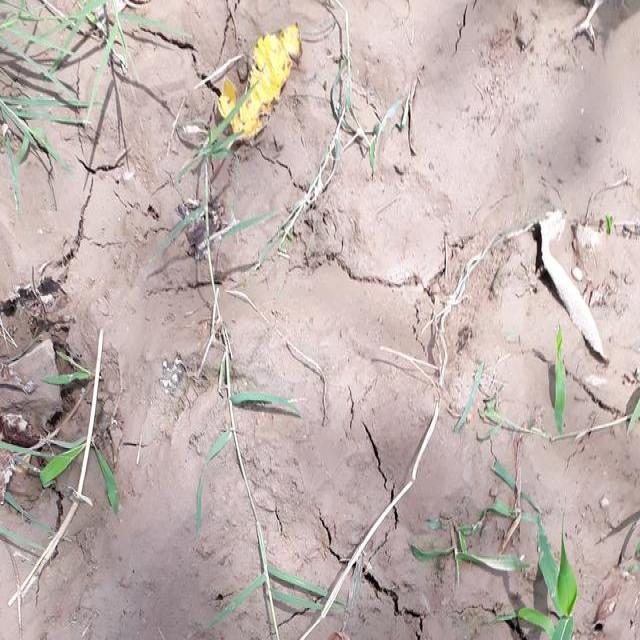weed: (449, 480, 577, 640)
